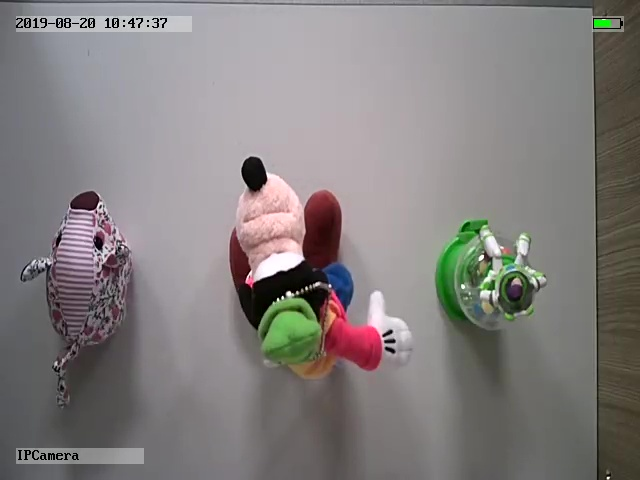buzz: (434, 215, 550, 339)
goofy: (225, 152, 417, 387)
pig: (19, 188, 134, 408)
